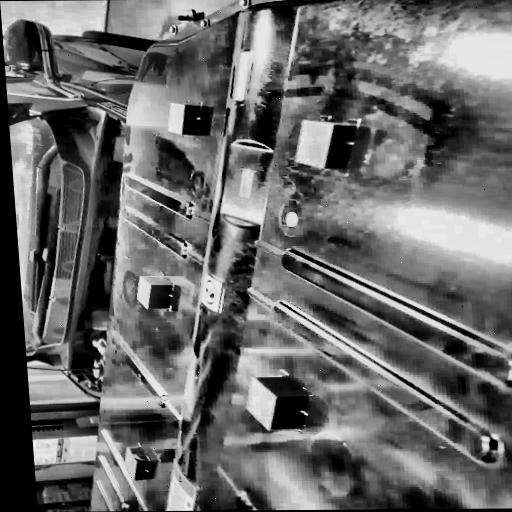b_casing: (46, 0, 512, 512)
